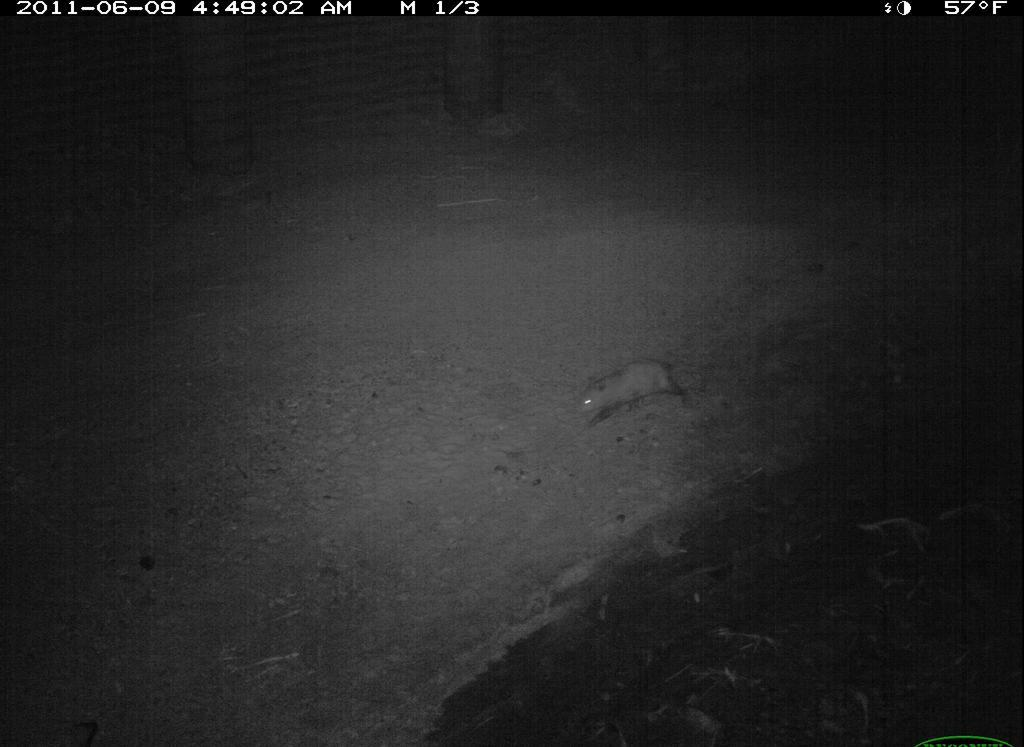opossum: (575, 352, 716, 432)
